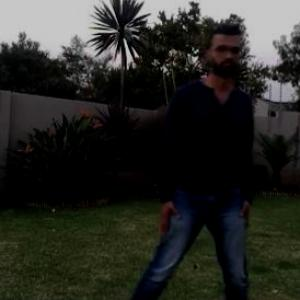follow: (152, 14, 264, 299)
